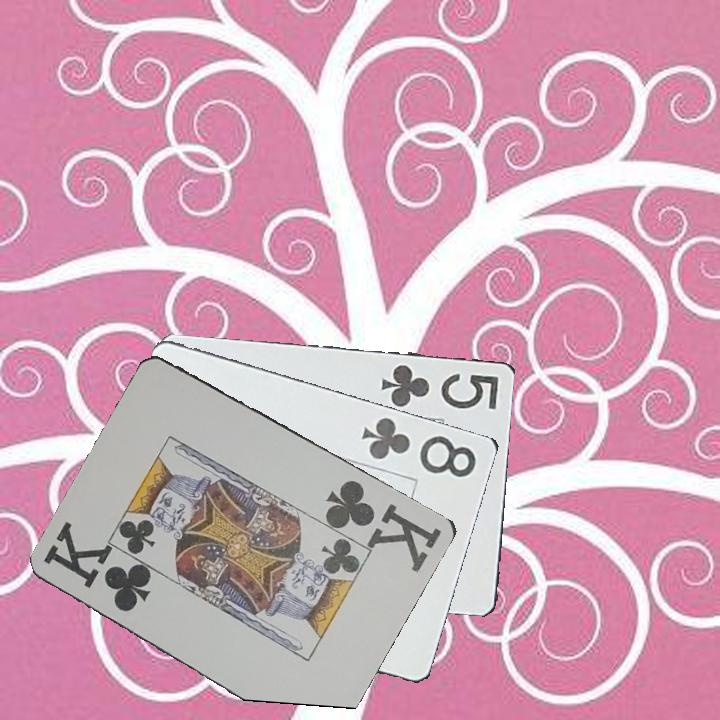5c: (378, 361, 502, 412)
8c: (358, 413, 480, 480)
Kc: (319, 476, 446, 574), (40, 524, 155, 617)
